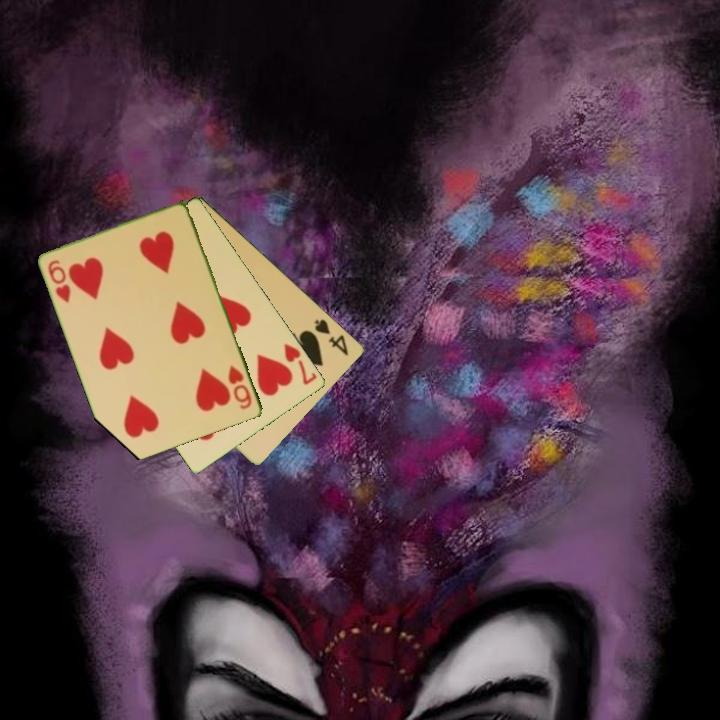4s: (311, 316, 352, 359)
6h: (225, 362, 255, 412), (45, 256, 74, 306)
7h: (281, 340, 320, 388)
